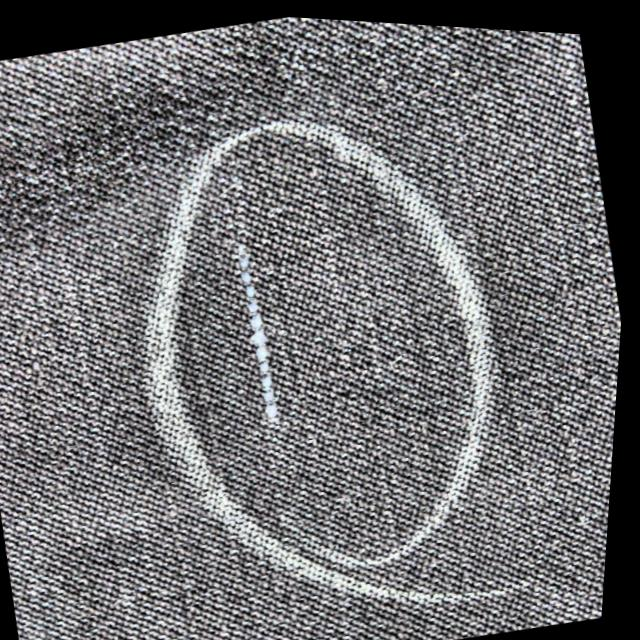Stitch: (202, 215, 333, 437)
